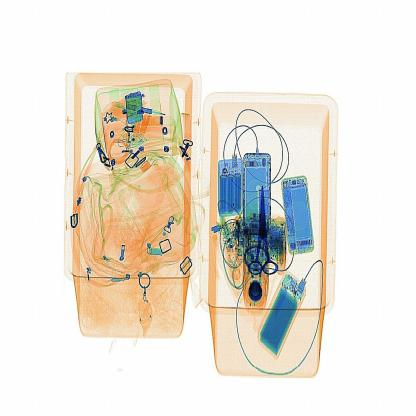gun: (245, 180, 281, 278)
